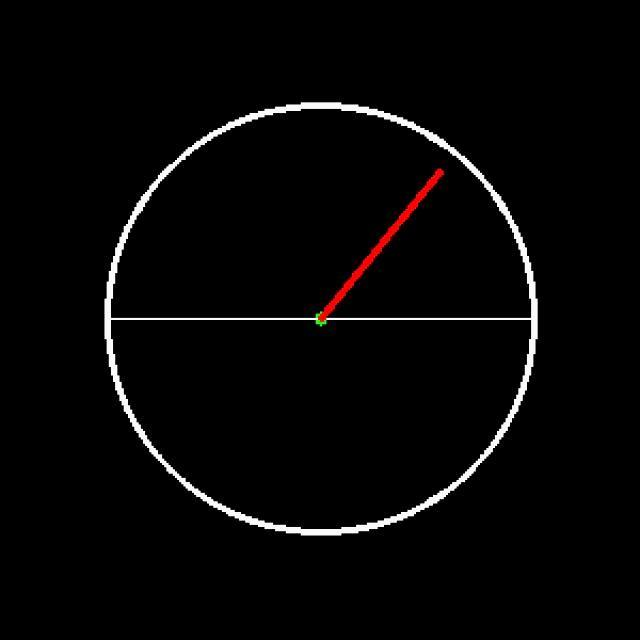Needle_Tip: (413, 157, 463, 205)
Needle_base: (283, 296, 352, 346)
